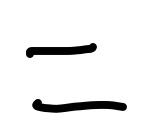eqv: (22, 39, 129, 114)
